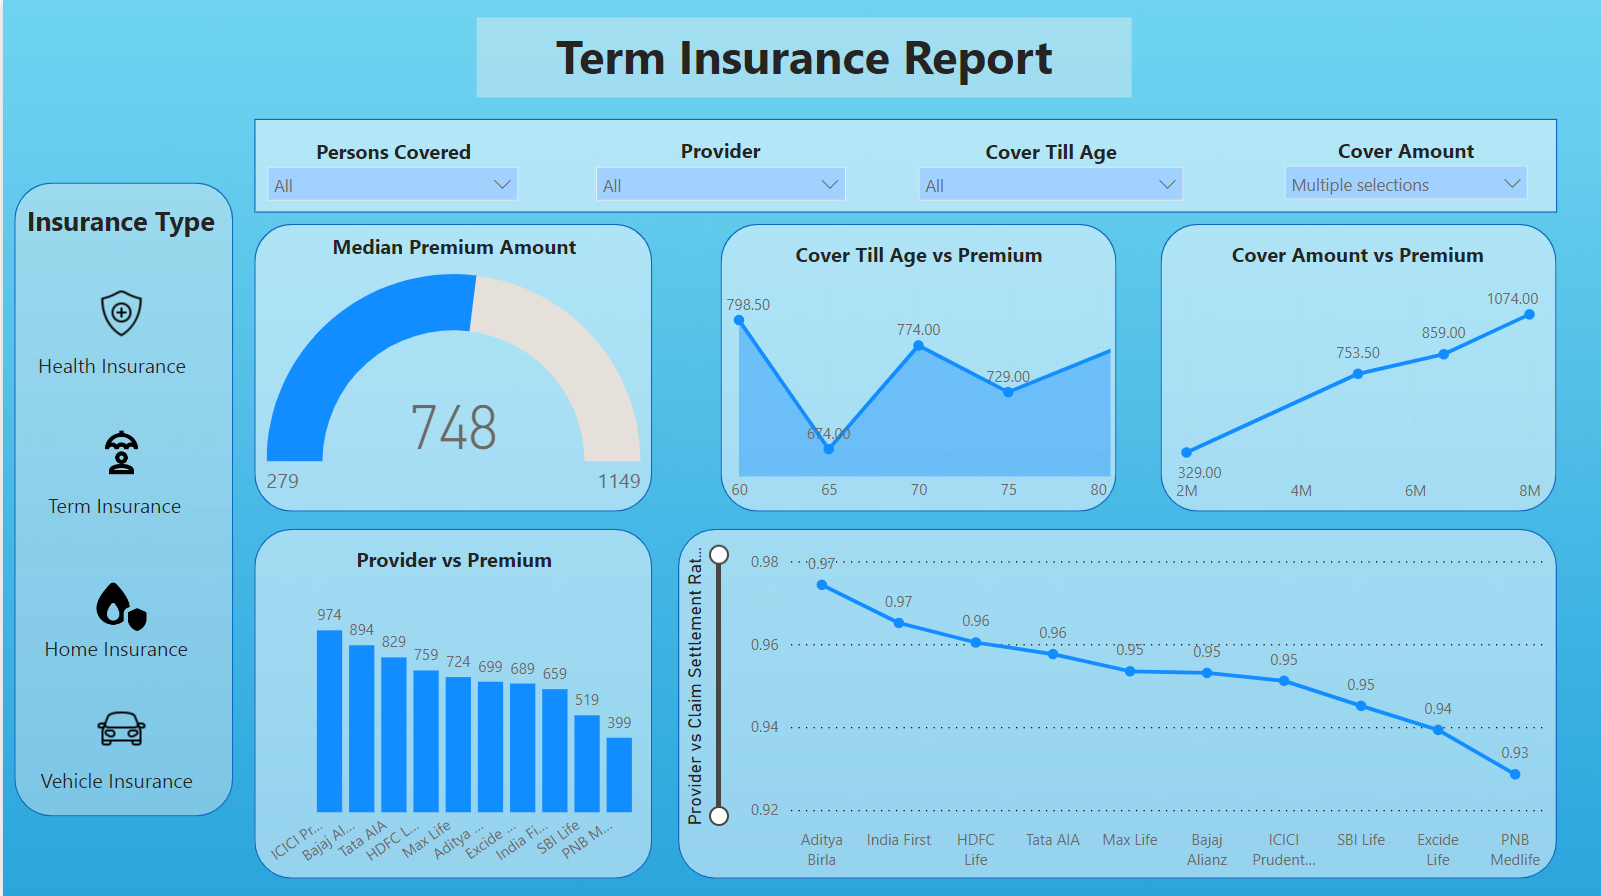

This screenshot's page, from the dashboard's own definition file:
{"tool":"powerbi","page":{"name":"Term Insurance","canvas":[1280,720],"ordinal":0},"visuals":[{"type":"shape","box":[201.4,178.6,317.1,230],"z":0},{"type":"image","box":[70,558.5,50,50],"z":0,"group":"g1"},{"type":"textbox","box":[378.7,14.5,524.6,63.9],"z":1000},{"type":"image","box":[70,460,50,50],"z":1000,"group":"g1"},{"type":"shape","box":[8.6,145.7,175.7,507.1],"z":2000},{"type":"image","box":[70,338.5,50,50],"z":2000,"group":"g1"},{"type":"image","box":[70,225.7,50,50],"z":3000,"group":"g1"},{"type":"group","id":"g1","title":"Group 1","box":[14.3,157.1,170,484.3],"z":3000},{"type":"textbox","box":[14.3,157.1,170,47.1],"z":4000,"group":"g1"},{"type":"shape","box":[201.4,422.9,317.1,280],"z":4000},{"type":"textbox","box":[22.9,275.7,144.3,38.6],"z":5000,"group":"g1"},{"type":"shape","box":[540,422.9,702.9,280],"z":5000},{"type":"shape","box":[201.4,95.3,1042,74.8],"z":6000},{"type":"textbox","box":[31.4,388.5,130,31.4],"z":6000,"group":"g1"},{"type":"textbox","box":[501.7,103.7,144.7,38.6],"z":7000},{"type":"textbox","box":[28.4,501.9,136.3,32.6],"z":7000,"group":"g1"},{"type":"shape","box":[925.7,178.6,317.1,230],"z":8000},{"type":"textbox","box":[25.7,608.5,142.9,32.9],"z":8000,"group":"g1"},{"type":"shape","box":[574.3,178.6,317.1,230],"z":9000},{"type":"slicer","fields":{"Values":["Sheet1.Person Covered"]},"box":[201.4,123,220.7,47],"z":10000},{"type":"slicer","fields":{"Values":["Sheet1.Provider"]},"box":[464.3,123,219.5,47],"z":11000},{"type":"textbox","box":[240,104.9,144.7,38.6],"z":12000},{"type":"slicer","fields":{"Values":["Sheet1.Cover till age"]},"box":[722.4,123,231.6,47],"z":13000},{"type":"textbox","box":[765.8,104.9,144.7,38.6],"z":14000},{"type":"slicer","fields":{"Values":["Sheet1.Life Cover"]},"box":[1015.5,121.8,214.7,47],"z":15000},{"type":"textbox","box":[1050.5,103.7,144.7,38.6],"z":16000},{"type":"textbox","box":[249.6,180.9,221.9,38.6],"z":17000},{"type":"lineChart","fields":{"Category":["Sheet1.Provider"],"Y":["Median(Sheet1.Incurred Claim Ratio)"]},"box":[540.3,430.6,703.1,272.6],"z":18000},{"type":"clusteredColumnChart","fields":{"Category":["Sheet1.Provider"],"Y":["Median(Sheet1.Premium)"]},"box":[201.4,469.1,317.2,234],"z":19000},{"type":"stackedAreaChart","fields":{"Category":["Sheet1.Cover till age"],"Y":["Median(Sheet1.Premium)"]},"box":[574.1,218.3,317.2,191.8],"z":20000},{"type":"textbox","box":[622.3,186.9,221.9,38.6],"z":21000},{"type":"lineChart","fields":{"Category":["Sheet1.Life Cover"],"Y":["Median(Sheet1.Premium)"]},"box":[932.3,219.5,303.9,191.8],"z":22000},{"type":"textbox","box":[973.3,186.9,221.9,38.6],"z":23000},{"type":"textbox","box":[249.6,430.6,221.9,38.6],"z":24000},{"type":"gauge","fields":{"Y":["Median(Sheet1.Premium)"],"MinValue":["Min(Sheet1.Premium)"],"MaxValue":["Max(Sheet1.Premium)1"]},"box":[206.2,203.8,308.7,212.3],"z":25000}]}

Visuals, with their boxes in screenshot pixels (x1, y1, x2, y2), scaled from the page's 1280x720 canvas onto the 1601x896 screenshot:
shape: select_region(252, 222, 649, 508)
image: select_region(88, 695, 150, 757)
textbox: select_region(474, 18, 1130, 98)
image: select_region(88, 572, 150, 635)
shape: select_region(11, 181, 231, 812)
image: select_region(88, 421, 150, 483)
image: select_region(88, 281, 150, 343)
"Group 1" group: select_region(18, 196, 231, 798)
textbox: select_region(18, 196, 231, 254)
shape: select_region(252, 526, 649, 875)
textbox: select_region(29, 343, 209, 391)
shape: select_region(675, 526, 1555, 875)
shape: select_region(252, 119, 1555, 212)
textbox: select_region(39, 483, 202, 523)
textbox: select_region(628, 129, 809, 177)
textbox: select_region(36, 625, 206, 665)
shape: select_region(1158, 222, 1554, 508)
textbox: select_region(32, 757, 211, 798)
shape: select_region(718, 222, 1115, 508)
slicer - Sheet1.Person Covered: select_region(252, 153, 528, 212)
slicer - Sheet1.Provider: select_region(581, 153, 855, 212)
textbox: select_region(300, 131, 481, 179)
slicer - Sheet1.Cover till age: select_region(904, 153, 1193, 212)
textbox: select_region(958, 131, 1139, 179)
slicer - Sheet1.Life Cover: select_region(1270, 152, 1539, 210)
textbox: select_region(1314, 129, 1495, 177)
textbox: select_region(312, 225, 590, 273)
lineChart - Sheet1.Provider x Median(Sheet1.Incurred Claim Ratio): select_region(676, 536, 1555, 875)
clusteredColumnChart - Sheet1.Provider x Median(Sheet1.Premium): select_region(252, 584, 649, 875)
stackedAreaChart - Sheet1.Cover till age x Median(Sheet1.Premium): select_region(718, 272, 1115, 510)
textbox: select_region(778, 233, 1056, 281)
lineChart - Sheet1.Life Cover x Median(Sheet1.Premium): select_region(1166, 273, 1546, 512)
textbox: select_region(1217, 233, 1495, 281)
textbox: select_region(312, 536, 590, 584)
gauge - Median(Sheet1.Premium) x Min(Sheet1.Premium): select_region(258, 254, 644, 518)
